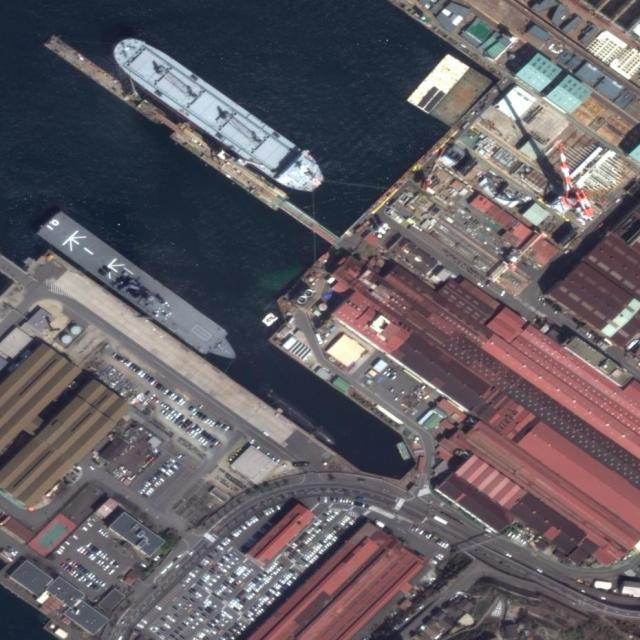Cargo: (102, 25, 333, 205)
Dock: (43, 28, 339, 253)
Landing: (36, 206, 246, 371)
Submarine: (264, 389, 336, 447)
